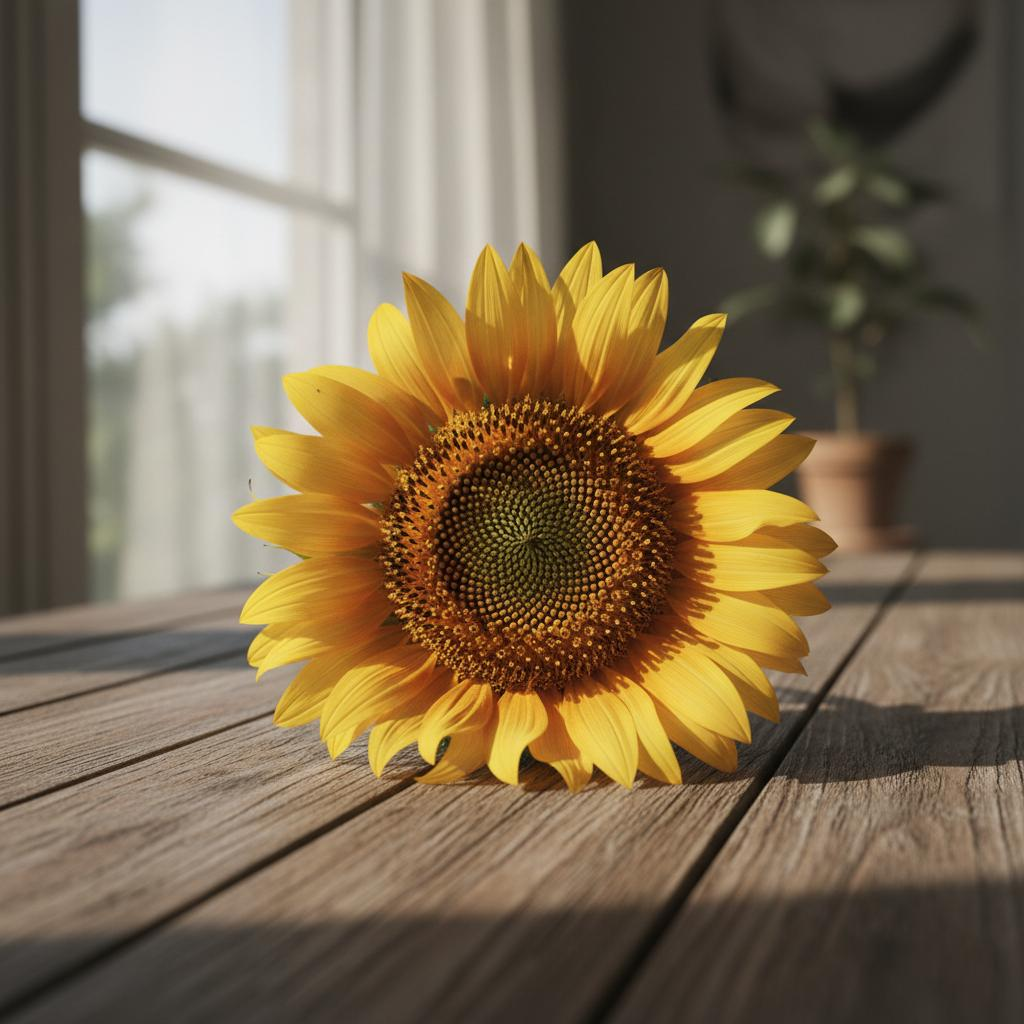sunflower: (231, 237, 836, 793)
